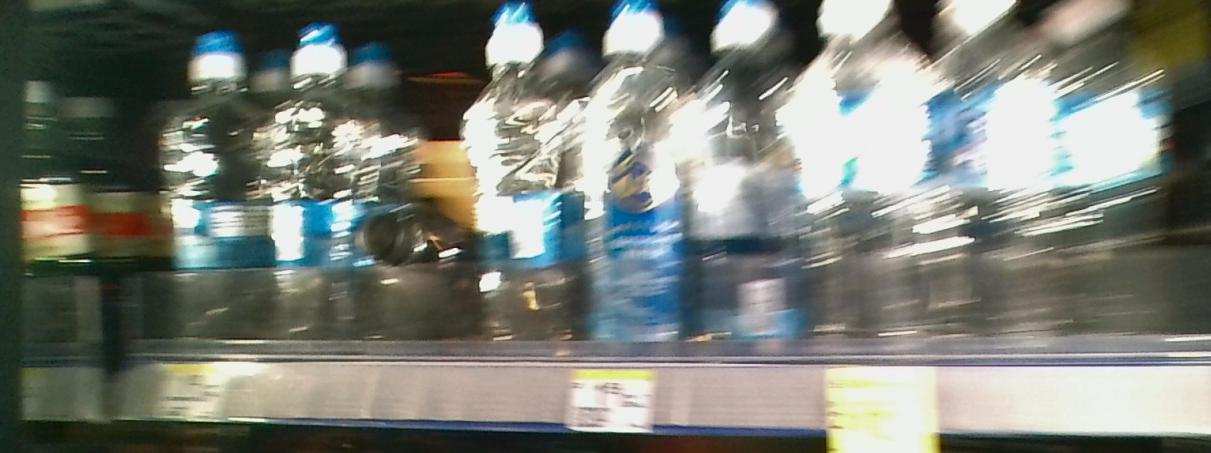bottle: (806, 1, 918, 350), (1051, 3, 1170, 329), (930, 1, 1044, 338), (692, 5, 798, 348), (582, 5, 686, 348), (473, 7, 576, 349), (159, 28, 264, 350), (272, 23, 365, 360), (373, 197, 467, 312)
